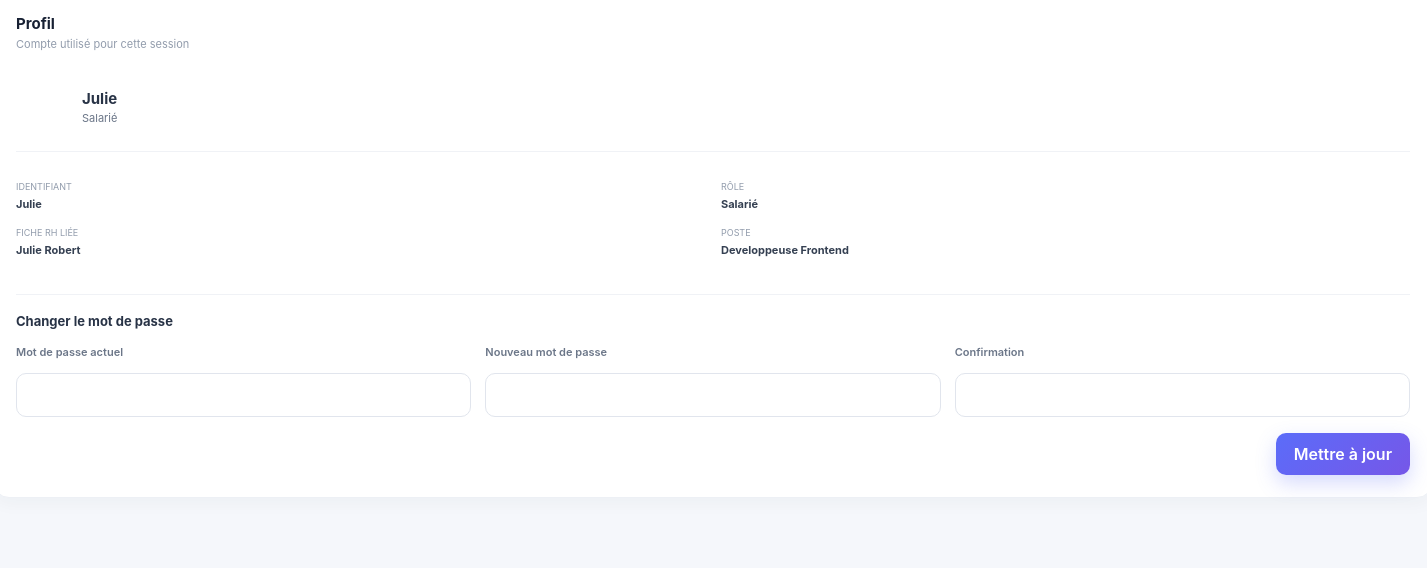
Test case: <ProfileSettings /> › refuse une confirmation qui ne correspond pas
This screenshot has width=1427, height=568.
Step 1. Type "user" into the password field labelled "Mot de passe actuel" → (244, 395), box [16,373,471,417]
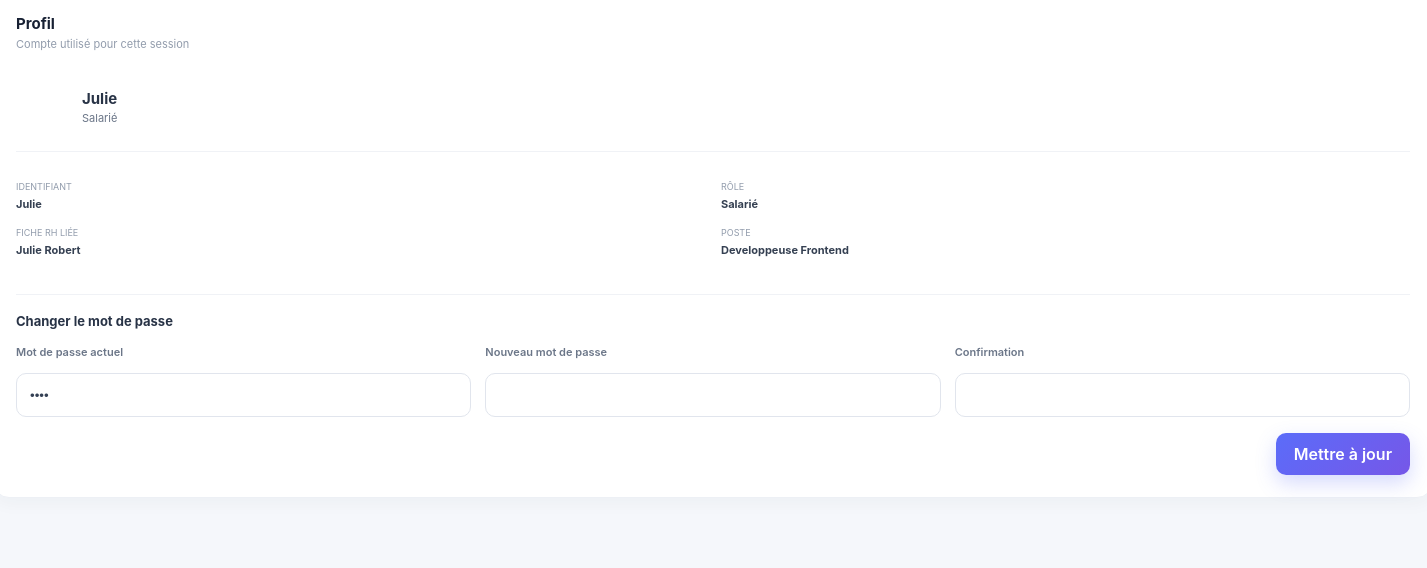
Step 2. Type "abcd1234" into the password field labelled "Nouveau mot de passe" → (713, 395), box [485,373,941,417]
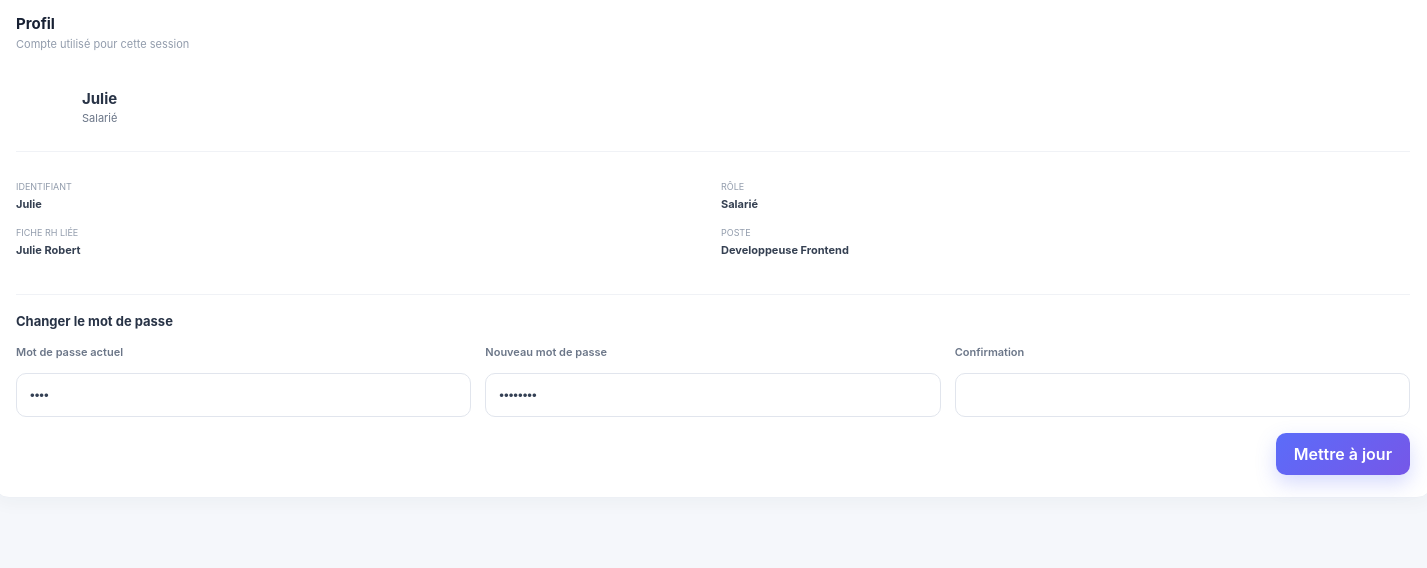
Step 3. Type "different" into the password field labelled "Confirmation" → (1182, 395), box [955,373,1410,417]
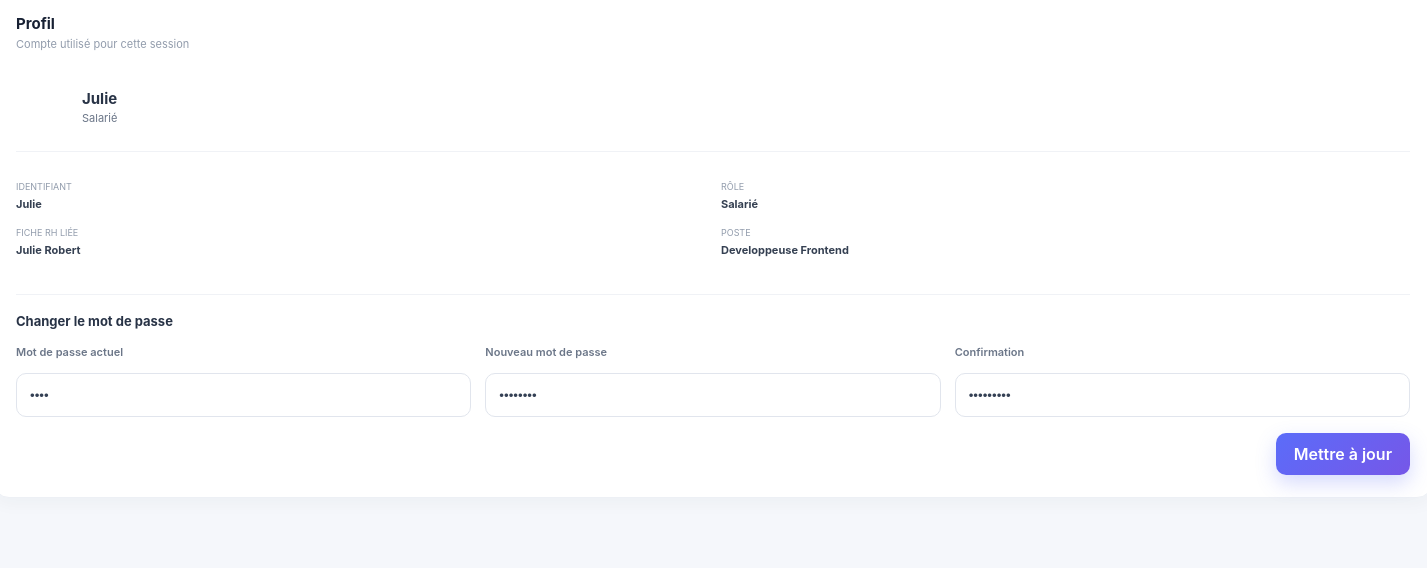
Step 4. Click the button "Mettre à jour" → (1343, 454), box [1276,433,1410,475]
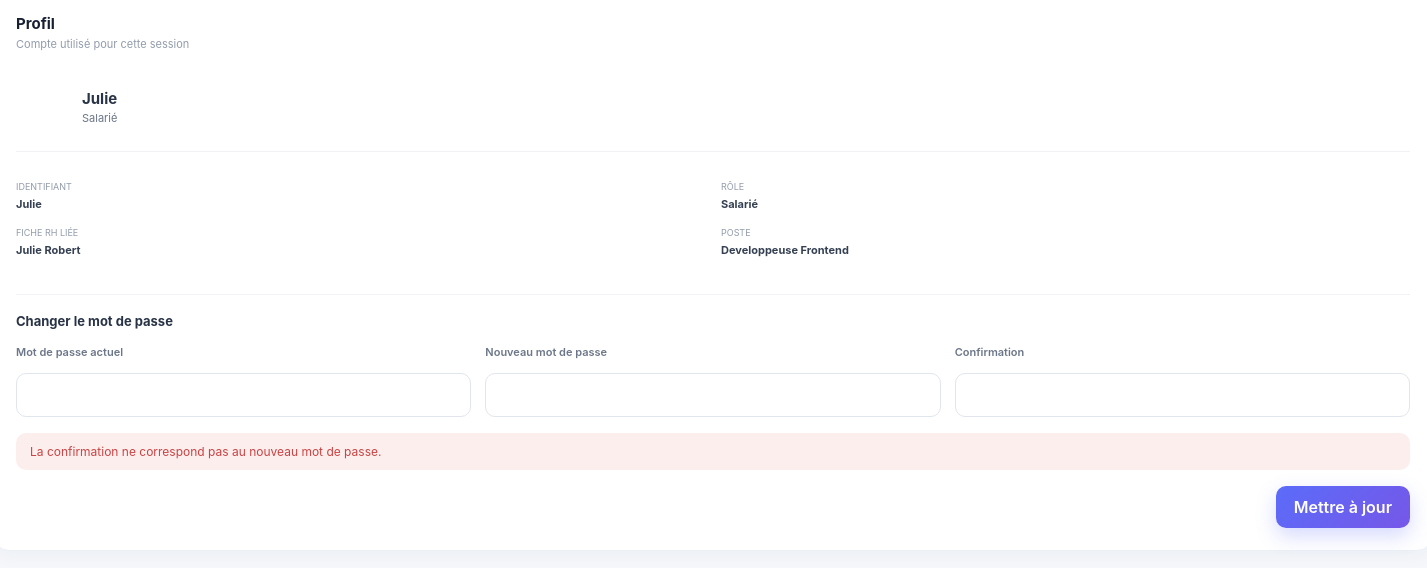
expect the text "La confirmation ne correspond pas au nouveau mot de passe." is shown: met, box [16,433,1410,470]
